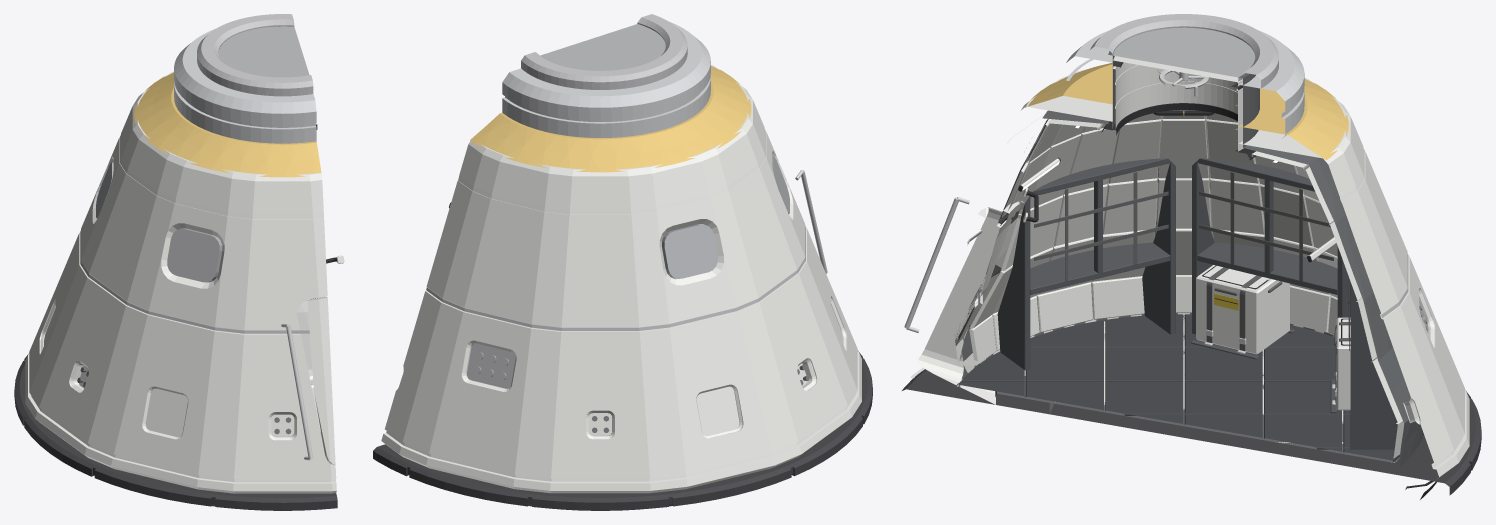
File: ax_cmd_08_ares_cargo_capsule_cutaway.glb
3 views of the same model, side by side, from view 1: azimuth 30°, elevation 25°; view 2: azimuth 150°, elevation 25°; view 3: azimuth 270°, elevation 25° (orthographic). The views are drawn at different scales.
Parts seen in each view (by area): view 1: ext_shell, ext_nose_cap, ext_mli_crown, ext_heat_shield, ext_docking_port, ext_docking_hatch, ext_hatch_door_1, ext_window_blanking_plates, ext_grey_stripe, ext_handrails, hatch_door_1; view 2: ext_shell, ext_nose_cap, ext_mli_crown, ext_heat_shield, ext_docking_port, ext_docking_hatch, ext_window_blanking_plates, ext_umbilical_panel, ext_grey_stripe, ext_handrails; view 3: ext_shell, rack_4_frame, pressure_vessel, ext_heat_shield, rack_3_frame, ext_mli_crown, eqm20_3_eqm20_bag_28d04a, ext_docking_hatch, tunnel_liner, rack_2_frame, ext_docking_port, ext_nose_cap (+43 smaller).
Boxes of the visible parts, x1,y1,x2,y2 form: ext_shell: (25, 71, 336, 493); ext_nose_cap: (174, 29, 316, 143); ext_mli_crown: (134, 72, 321, 177); ext_heat_shield: (14, 353, 337, 510); ext_docking_port: (197, 14, 313, 96); ext_docking_hatch: (218, 26, 309, 77); ext_hatch_door_1: (307, 296, 335, 465); ext_window_blanking_plates: (96, 162, 222, 282); ext_grey_stripe: (80, 231, 309, 333); ext_handrails: (281, 324, 313, 460); hatch_door_1: (297, 297, 323, 443); ext_shell: (381, 65, 861, 493); ext_nose_cap: (502, 21, 710, 137); ext_mli_crown: (470, 66, 751, 172); ext_heat_shield: (373, 351, 872, 510); ext_docking_port: (521, 14, 687, 89); ext_docking_hatch: (540, 24, 665, 70); ext_window_blanking_plates: (662, 157, 789, 278); ext_umbilical_panel: (467, 343, 515, 388); ext_grey_stripe: (426, 226, 805, 330); ext_handrails: (795, 170, 827, 273); ext_shell: (910, 68, 1469, 478); rack_4_frame: (997, 158, 1175, 370); pressure_vessel: (955, 27, 1423, 467); ext_heat_shield: (902, 369, 1481, 499); rack_3_frame: (1192, 158, 1350, 334); ext_mli_crown: (1025, 62, 1348, 160); eqm20_3_eqm20_bag_28d04a: (1196, 265, 1289, 354); ext_docking_hatch: (1113, 27, 1255, 81); tunnel_liner: (1113, 62, 1243, 151); rack_2_frame: (1350, 282, 1397, 449); ext_docking_port: (1090, 14, 1278, 88); ext_nose_cap: (1066, 30, 1304, 138).
Bounding box in the file's own units: 2.72 × 2.95 × 3.65.
